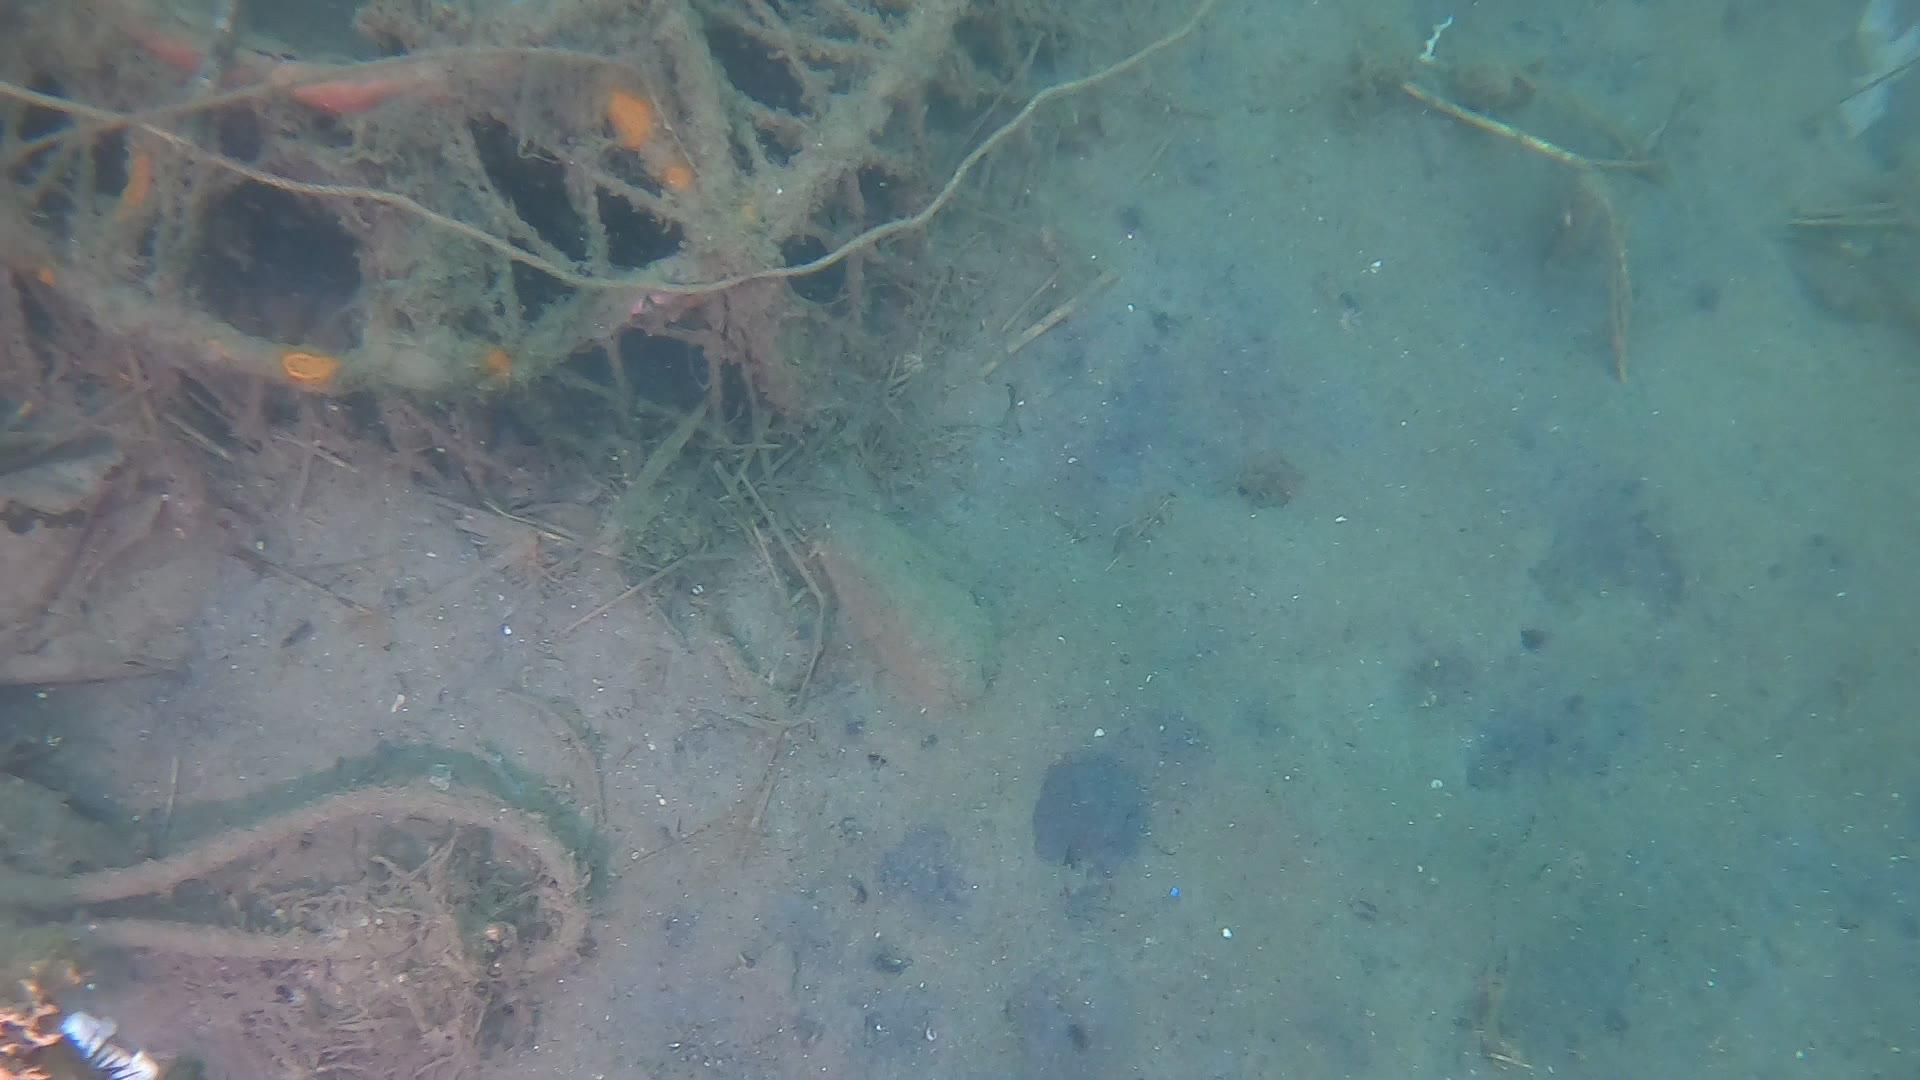circular fish trap: (3, 0, 1050, 483), (0, 770, 607, 990)
